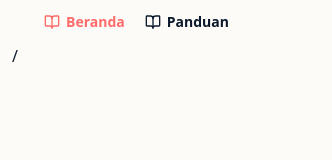
it: configured header links honor sorting, active status, safe URLs and client navigation
Click the link "Panduan" at x=187, y=22, box [145,12,229,32]
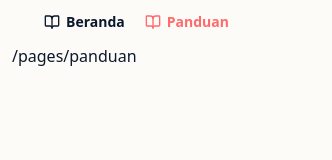
expect the text with test id "path" reads "/pages/panduan": met, box [12,45,136,67]
